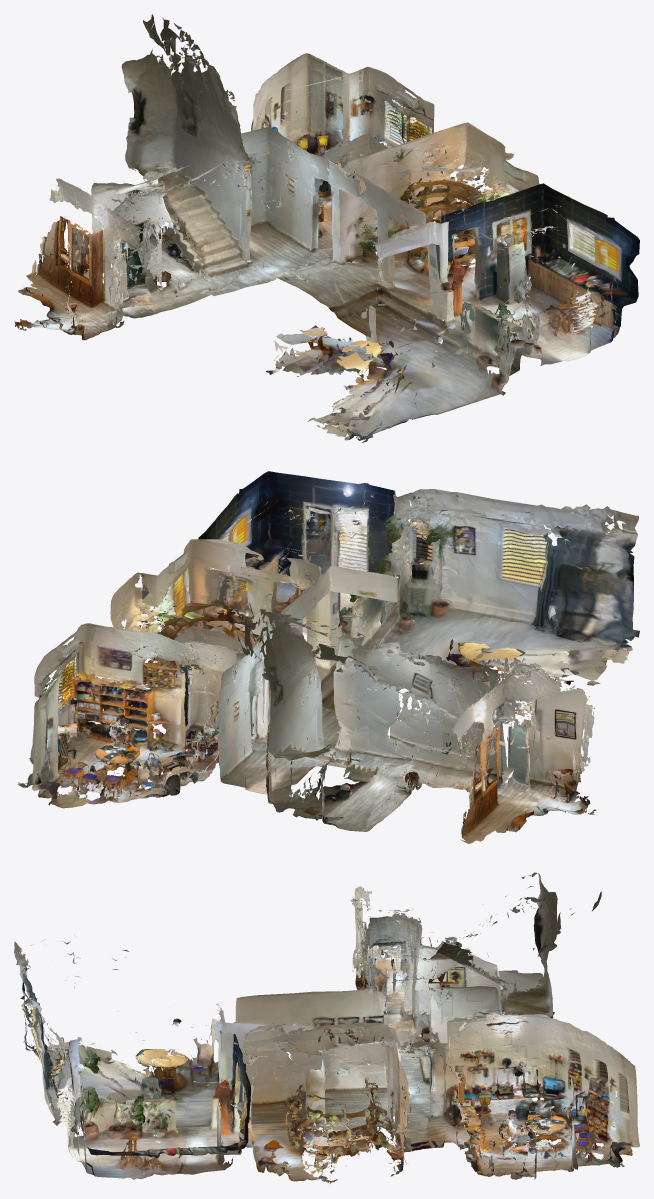
File: occlusion_mesh.glb
The picture shows the model from 3 angles, top to bottom: view 1: azimuth 30°, elevation 25°; view 2: azimuth 150°, elevation 25°; view 3: azimuth 270°, elevation 25°; orthographic projection. The views are drawn at different scales.
Visible parts, largest first — view 1: BFFEBA51E04841B9A6ABA76A4C24AE90, 33A0ED14AB9C406FAD4524FA93AC24E6, 96D0E4A30A214E759595BC7D5AC8328B, E447761BD55D4FBB9C3BA3298B65BF86, AF10CE08CCB3434E90FF69B035C970A5, BF2C995E4FDC413AB507038D85EB511D, DAC94163521E4C229C2C9ED7E8D7E8B5; view 2: BFFEBA51E04841B9A6ABA76A4C24AE90, 33A0ED14AB9C406FAD4524FA93AC24E6, DAC94163521E4C229C2C9ED7E8D7E8B5, AF10CE08CCB3434E90FF69B035C970A5, 96D0E4A30A214E759595BC7D5AC8328B, E447761BD55D4FBB9C3BA3298B65BF86, BF2C995E4FDC413AB507038D85EB511D; view 3: BFFEBA51E04841B9A6ABA76A4C24AE90, 33A0ED14AB9C406FAD4524FA93AC24E6, 96D0E4A30A214E759595BC7D5AC8328B, DAC94163521E4C229C2C9ED7E8D7E8B5, AF10CE08CCB3434E90FF69B035C970A5, E447761BD55D4FBB9C3BA3298B65BF86, BF2C995E4FDC413AB507038D85EB511D.
Boxes of the visible parts, <box> form: BFFEBA51E04841B9A6ABA76A4C24AE90: <box>148,123,639,436</box>; 33A0ED14AB9C406FAD4524FA93AC24E6: <box>91,14,410,309</box>; 96D0E4A30A214E759595BC7D5AC8328B: <box>14,178,148,333</box>; E447761BD55D4FBB9C3BA3298B65BF86: <box>333,67,434,184</box>; AF10CE08CCB3434E90FF69B035C970A5: <box>62,215,358,440</box>; BF2C995E4FDC413AB507038D85EB511D: <box>457,122,514,244</box>; DAC94163521E4C229C2C9ED7E8D7E8B5: <box>350,279,598,442</box>; BFFEBA51E04841B9A6ABA76A4C24AE90: <box>116,471,621,780</box>; 33A0ED14AB9C406FAD4524FA93AC24E6: <box>23,609,471,831</box>; DAC94163521E4C229C2C9ED7E8D7E8B5: <box>340,489,638,647</box>; AF10CE08CCB3434E90FF69B035C970A5: <box>471,642,632,799</box>; 96D0E4A30A214E759595BC7D5AC8328B: <box>452,673,596,843</box>; E447761BD55D4FBB9C3BA3298B65BF86: <box>17,623,95,787</box>; BF2C995E4FDC413AB507038D85EB511D: <box>110,572,162,631</box>; BFFEBA51E04841B9A6ABA76A4C24AE90: <box>46,921,411,1182</box>; 33A0ED14AB9C406FAD4524FA93AC24E6: <box>386,872,639,1176</box>; 96D0E4A30A214E759595BC7D5AC8328B: <box>375,904,496,1025</box>; DAC94163521E4C229C2C9ED7E8D7E8B5: <box>14,939,71,1144</box>; AF10CE08CCB3434E90FF69B035C970A5: <box>47,886,386,1055</box>; E447761BD55D4FBB9C3BA3298B65BF86: <box>464,1076,624,1179</box>; BF2C995E4FDC413AB507038D85EB511D: <box>304,1088,408,1183</box>.
Bounding box in the file's own units: 14.5 × 6.14 × 16.83.
Materials: 8 (8 with a texture image).
